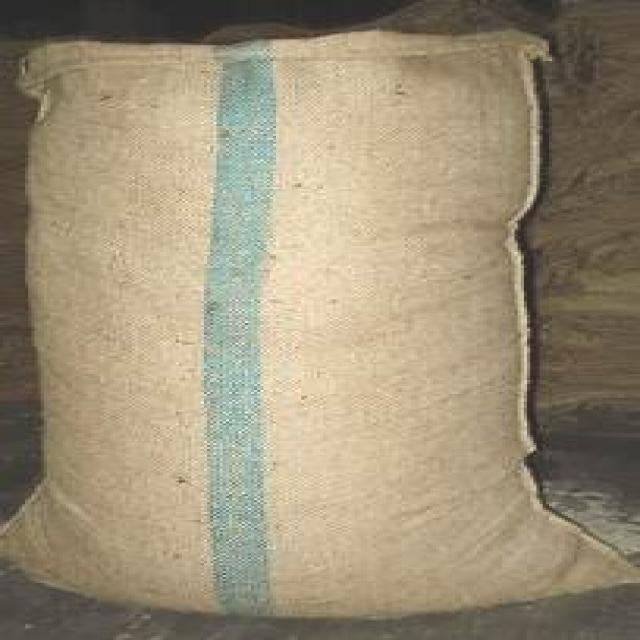gunny_bag: (0, 20, 640, 617)
